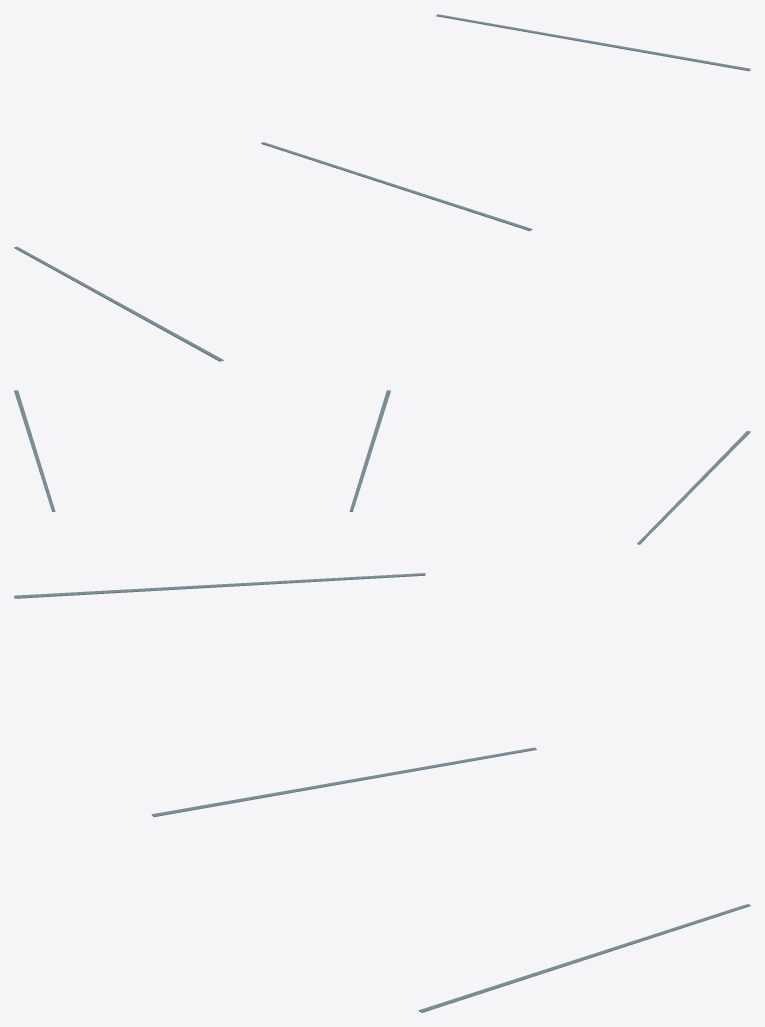
The model's file is Transit_Walk_W2_Curve45_R8_MarkPaverJoints.glb.
The picture shows the model from 3 angles, top to bottom: view 1: azimuth 30°, elevation 25°; view 2: azimuth 150°, elevation 25°; view 3: azimuth 270°, elevation 25°; orthographic projection. The views are drawn at different scales.
Visible parts, largest first — view 1: Transit_Walk_W2_Curve45_R8_MarkPaverJoints; view 2: Transit_Walk_W2_Curve45_R8_MarkPaverJoints; view 3: Transit_Walk_W2_Curve45_R8_MarkPaverJoints.
Part boxes in pixels (<box>): Transit_Walk_W2_Curve45_R8_MarkPaverJoints: <box>14,14,750,361</box>; Transit_Walk_W2_Curve45_R8_MarkPaverJoints: <box>14,390,750,544</box>; Transit_Walk_W2_Curve45_R8_MarkPaverJoints: <box>14,573,750,1012</box>.
Bounding box in the file's own units: 4.51 × 0.003 × 3.2.
